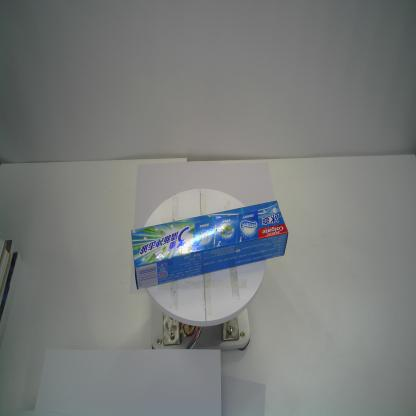Personal Hygiene: (130, 199, 289, 291)
